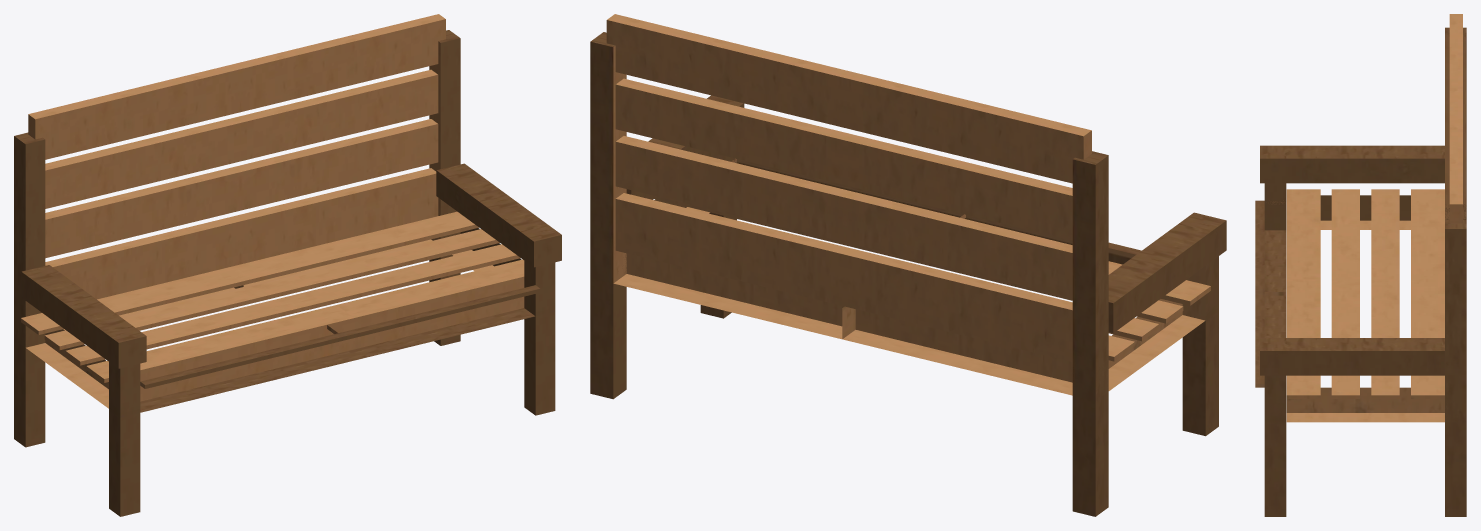
Rendered from bench.glb.
3 renders of one model, left to right at view 1: azimuth 30°, elevation 25°; view 2: azimuth 150°, elevation 25°; view 3: azimuth 270°, elevation 25°, orthographic. The views are drawn at different scales.
Visible parts, largest first — view 1: Cube.001, Cube.005, Cube, Cube.003; view 2: Cube.001, Cube, Cube.003, Cube.005; view 3: Cube.005, Cube.001, Cube.003, Cube.
Part boxes in pixels (<box>): Cube.001: <box>14,14,521,447</box>; Cube.005: <box>21,211,524,382</box>; Cube: <box>109,261,555,516</box>; Cube.003: <box>21,163,561,368</box>; Cube.001: <box>590,14,1205,516</box>; Cube: <box>700,154,1218,436</box>; Cube.003: <box>626,95,1226,333</box>; Cube.005: <box>654,196,1210,361</box>; Cube.005: <box>1286,189,1444,398</box>; Cube.001: <box>1286,14,1466,516</box>; Cube.003: <box>1260,145,1444,375</box>; Cube: <box>1255,183,1286,516</box>.
Bounding box in the file's own units: 6.16 × 4.29 × 2.67.
Materials: 1 (1 with a texture image).
